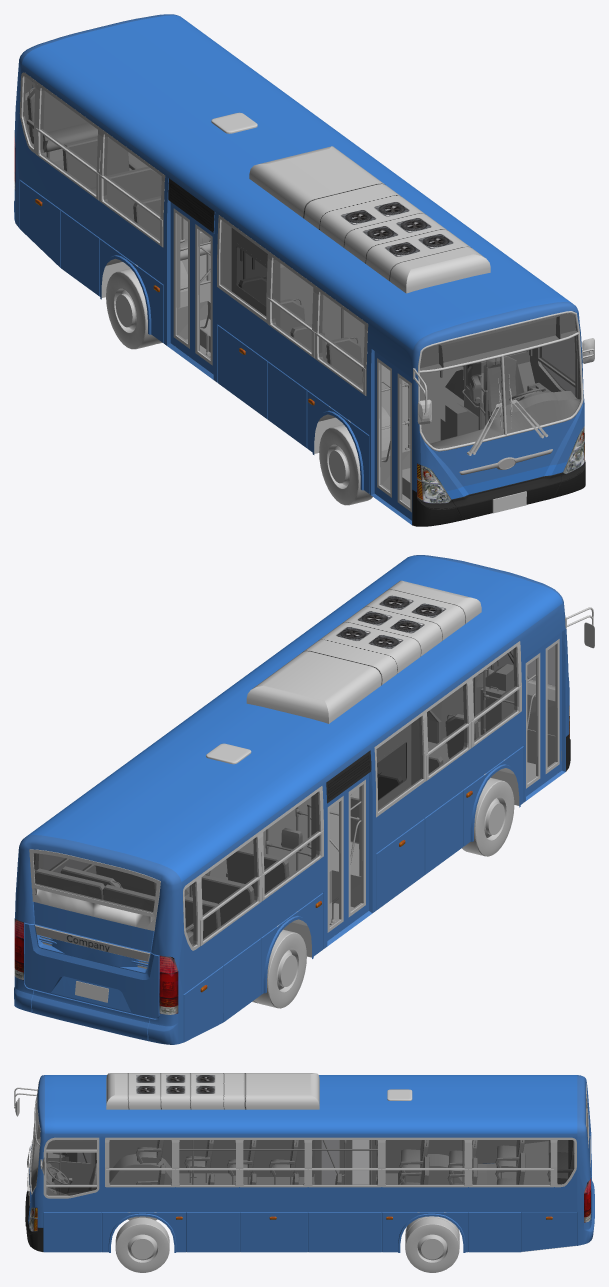
File: City Bus With Interior  11.FBX
3 renders of one model, top to bottom at view 1: azimuth 30°, elevation 25°; view 2: azimuth 150°, elevation 25°; view 3: azimuth 270°, elevation 25°, orthographic. The views are drawn at different scales.
Parts seen in each view (by area): view 1: City Bus With Interior 11_Exterior, City Bus With Interior 11, Front Door_04, Front Door_03, Front Door_01, City Bus With Interior 11_Wheel_RL, City Bus With Interior 11_Wheel_FL, Front Door_02, Seat_013, Seat_010, Seat_011, Seats (+2 smaller); view 2: City Bus With Interior 11_Exterior, City Bus With Interior 11, Front Door_03, Front Door_04, Front Door_02, City Bus With Interior 11_Wheel_FL, City Bus With Interior 11_Wheel_RL, Front Door_01, Seat_012, Seat_011, Seat_014, Seat_013 (+3 smaller); view 3: City Bus With Interior 11_Exterior, City Bus With Interior 11, City Bus With Interior 11_Wheel_RR, City Bus With Interior 11_Wheel_FR, Seat_012, Front Door_03, Seat_010, Seat_014, Front Door_04, Seat_015, Seat_017, Seat_018 (+4 smaller).
Part boxes in pixels (x1,y1,x2,y2): City Bus With Interior 11_Exterior: (14,14,594,526); City Bus With Interior 11: (24,77,580,504); Front Door_04: (170,202,192,358); Front Door_03: (192,218,214,374); Front Door_01: (374,351,394,507); City Bus With Interior 11_Wheel_RL: (106,268,162,349); City Bus With Interior 11_Wheel_FL: (319,424,372,505); Front Door_02: (395,366,412,520); Seat_013: (27,87,97,158); Seat_010: (62,137,137,192); Seat_011: (107,166,161,220); Seats: (483,356,524,419); City Bus With Interior 11_Exterior: (14,555,594,1044); City Bus With Interior 11: (35,664,561,945); Front Door_03: (346,773,368,926); Front Door_04: (326,790,346,940); Front Door_02: (543,632,561,783); City Bus With Interior 11_Wheel_FL: (462,777,514,856); City Bus With Interior 11_Wheel_RL: (252,929,306,1008); Front Door_01: (525,646,542,796); Seat_012: (226,848,289,893); Seat_011: (191,875,254,925); Seat_014: (34,868,104,924); Seat_013: (103,884,193,944); City Bus With Interior 11_Exterior: (14,1073,594,1252); City Bus With Interior 11: (31,1092,587,1194); City Bus With Interior 11_Wheel_RR: (405,1216,459,1272); City Bus With Interior 11_Wheel_FR: (115,1217,169,1272); Seat_012: (399,1140,429,1182); Front Door_03: (314,1140,344,1184); Seat_010: (495,1140,524,1178); Seat_014: (547,1140,573,1183); Front Door_04: (346,1140,376,1184); Seat_015: (269,1140,298,1184); Seat_017: (184,1140,213,1182); Seat_018: (136,1140,163,1164).
Bounding box in the file's own units: 7.2 × 8.29 × 27.26.
